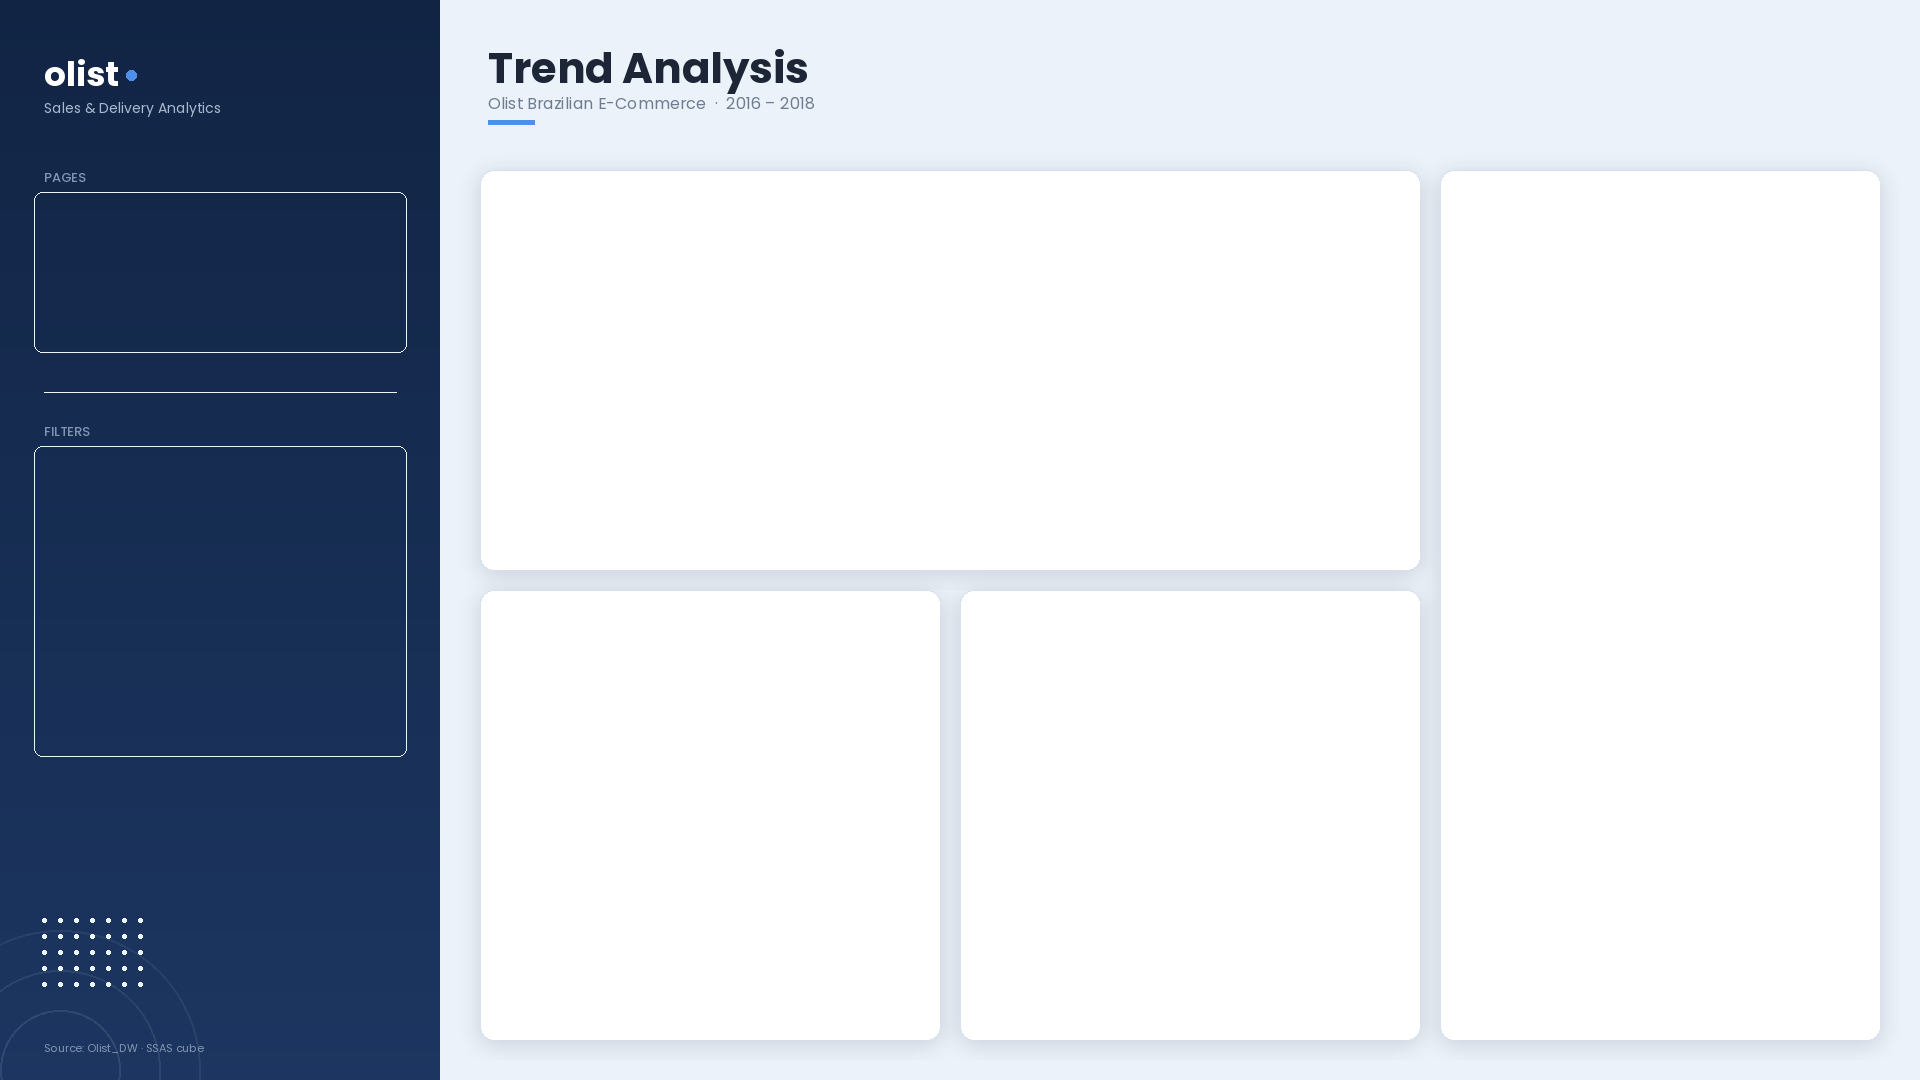

What the dashboard file says about the page in this screenshot:
{"tool":"powerbi","page":{"name":"Trend Analysis","canvas":[1920,1080],"ordinal":1},"visuals":[{"type":"pageNavigator","box":[35,190,370.8,158.3],"z":0},{"type":"slicer","fields":{"Values":["Customer Location.Hierarchy.State City"]},"box":[50,552,340,90],"z":1000},{"type":"slicer","fields":{"Values":["Product.Hierarchy.Category Name En"]},"box":[50,654,340,86],"z":2000},{"type":"slicer","fields":{"Values":["Date.Hierarchy.Year Label"]},"box":[50,452,340,88],"z":3000},{"type":"lineChart","fields":{"Category":["Date.Hierarchy.Year Month"],"Y":["Measures.Avg Delivery Days"],"Y2":["Fact Order Fulfilment.Late Delivery %"]},"box":[487.5,597.5,445,430],"z":4000},{"type":"lineChart","fields":{"Category":["Date.Hierarchy.Year Label","Date.Hierarchy.Year Quarter","Date.Hierarchy.Year Month"],"Y":["Fact Order Fulfilment.Sales Orders"],"Y2":["Fact Sales.Items Sold"]},"box":[487.5,172.5,925,380],"z":5000},{"type":"clusteredColumnChart","fields":{"Category":["Date.Hierarchy.Year Label","Date.Hierarchy.Year Quarter"],"Series":["Date.Hierarchy.Year Label"],"Y":["Fact Sales.Revenue"]},"box":[1450,175,422.5,852.5],"z":6000},{"type":"lineChart","fields":{"Category":["Date.Hierarchy.Year Label","Date.Hierarchy.Year Quarter","Date.Hierarchy.Year Month"],"Y":["Measures.Avg Review Score"]},"box":[960,598,454,430],"z":7000}]}

Visuals, with their boxes on the page's 1920x1080 design canvas (x1, y1, x2, y2). These are canvas units, not pixel positions in the 1920x1080 screenshot, which may show the page scaled, cropped or inside an application window:
pageNavigator: l=35, t=190, r=406, b=348
slicer - Customer Location.Hierarchy.State City: l=50, t=552, r=390, b=642
slicer - Product.Hierarchy.Category Name En: l=50, t=654, r=390, b=740
slicer - Date.Hierarchy.Year Label: l=50, t=452, r=390, b=540
lineChart - Date.Hierarchy.Year Month x Measures.Avg Delivery Days: l=488, t=598, r=932, b=1028
lineChart - Date.Hierarchy.Year Label x Date.Hierarchy.Year Quarter: l=488, t=172, r=1412, b=552
clusteredColumnChart - Date.Hierarchy.Year Label x Date.Hierarchy.Year Quarter: l=1450, t=175, r=1872, b=1028
lineChart - Date.Hierarchy.Year Label x Date.Hierarchy.Year Quarter: l=960, t=598, r=1414, b=1028
